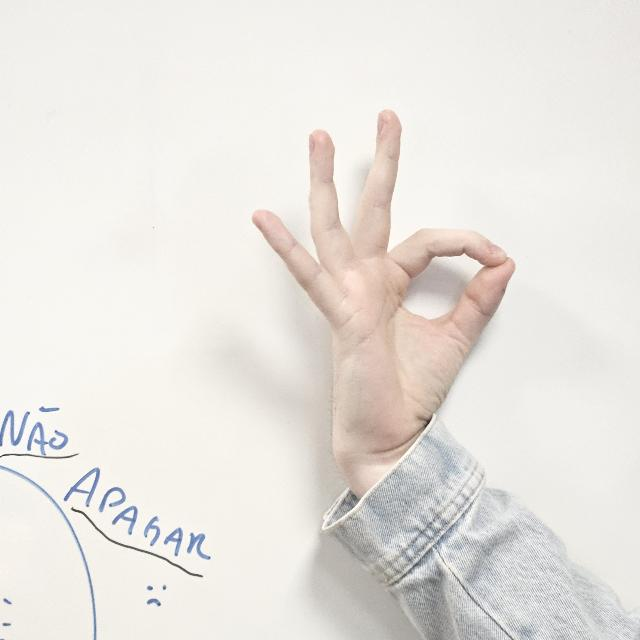Bolinha: (256, 110, 516, 457)
